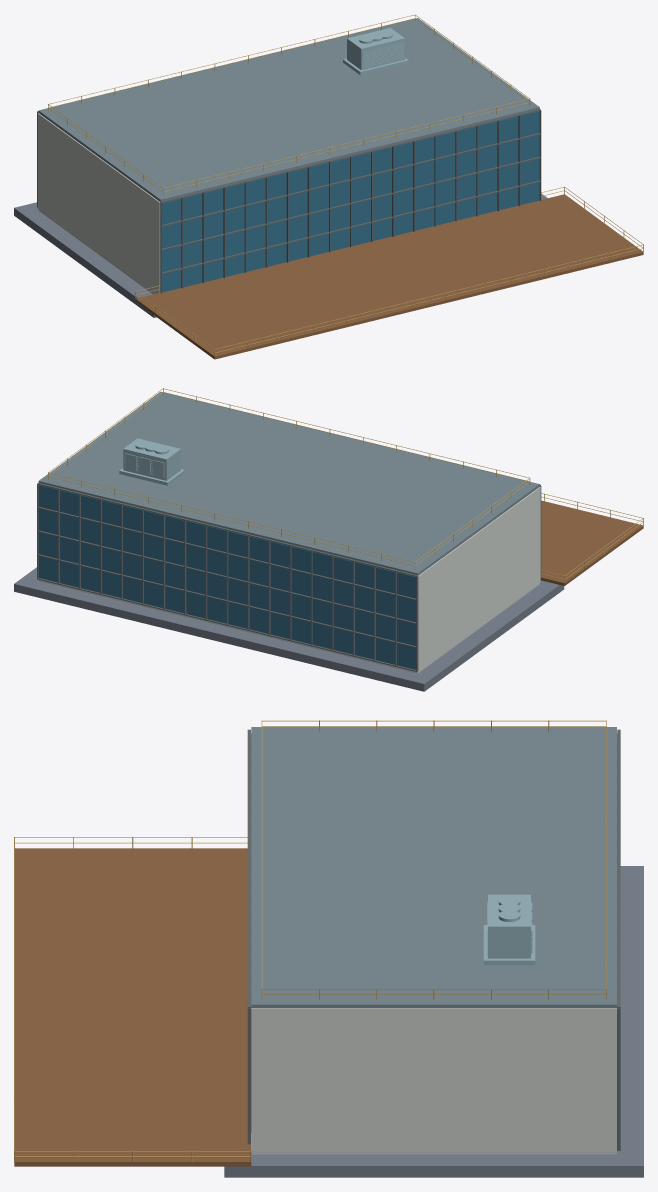
The model's file is DINING_W.glb.
3 views of the same model, one above another, from view 1: azimuth 30°, elevation 25°; view 2: azimuth 150°, elevation 25°; view 3: azimuth 270°, elevation 25° (orthographic). The views are drawn at different scales.
Parts seen in each view (by area): view 1: DINING_W; view 2: DINING_W; view 3: DINING_W.
Boxes of the visible parts, bbox=[...] form: DINING_W: bbox=[14, 14, 643, 359]; DINING_W: bbox=[14, 388, 643, 691]; DINING_W: bbox=[14, 720, 643, 1177].
Size of the model in its own units: 69.09 by 20.7 by 58.54.
